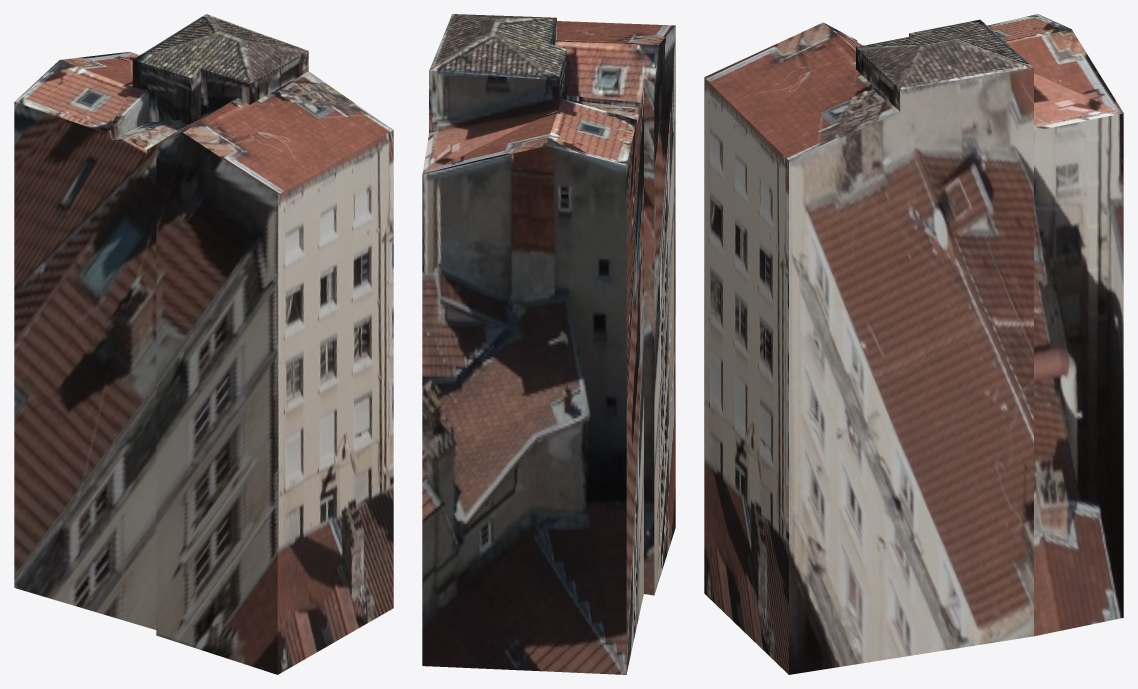
3 renders of one model, left to right at view 1: azimuth 30°, elevation 25°; view 2: azimuth 150°, elevation 25°; view 3: azimuth 270°, elevation 25°, orthographic. The views are drawn at different scales.
Visible parts, largest first — view 1: Z_UP; view 2: Z_UP; view 3: Z_UP.
Part boxes in pixels (x1=…): Z_UP: x1=14, y1=14, x2=393, y2=674; Z_UP: x1=422, y1=14, x2=675, y2=674; Z_UP: x1=704, y1=14, x2=1123, y2=674.
Size of the model in its own units: 13.86 by 27.3 by 17.75.
Materials: 2 (1 with a texture image).
